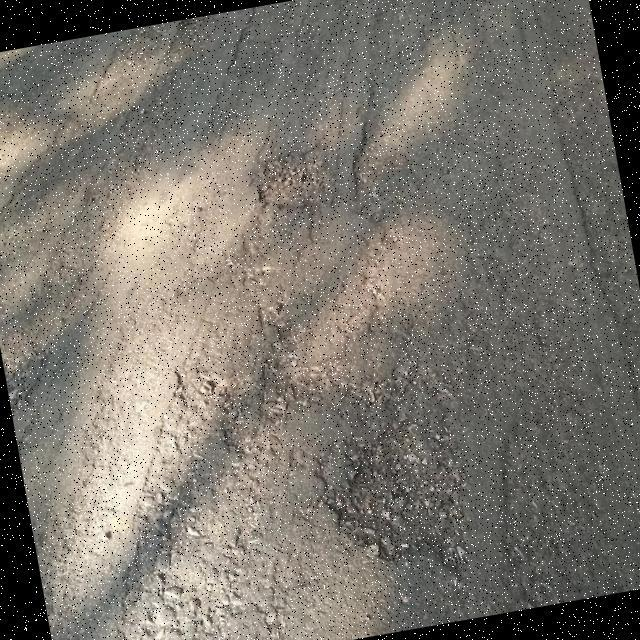Pothole: (334, 420, 463, 573), (252, 157, 339, 210)
